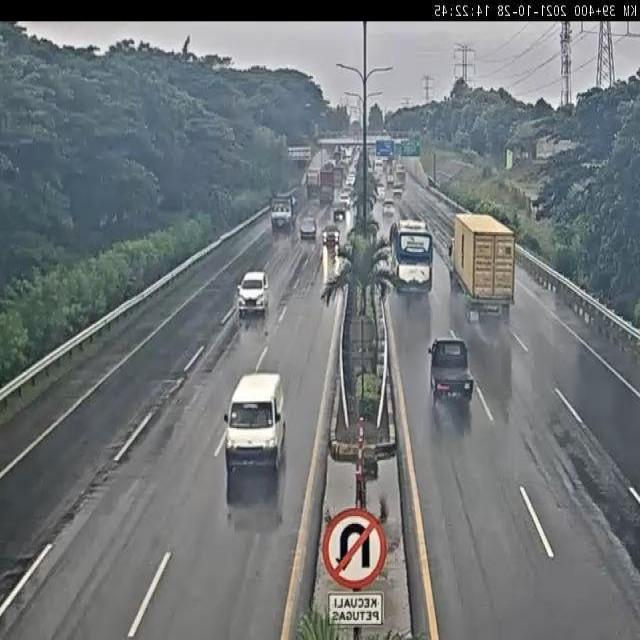Bus: (391, 218, 435, 297), (395, 162, 405, 185)
Car: (237, 270, 271, 318), (322, 224, 341, 249), (299, 217, 317, 240), (333, 200, 348, 224), (338, 189, 351, 207), (383, 200, 395, 216), (346, 173, 356, 188), (387, 172, 394, 186)
Truck: (445, 212, 513, 323), (428, 335, 474, 407), (270, 195, 295, 232), (319, 162, 337, 201), (306, 169, 321, 199), (392, 187, 402, 198)
Van: (225, 370, 287, 476)
